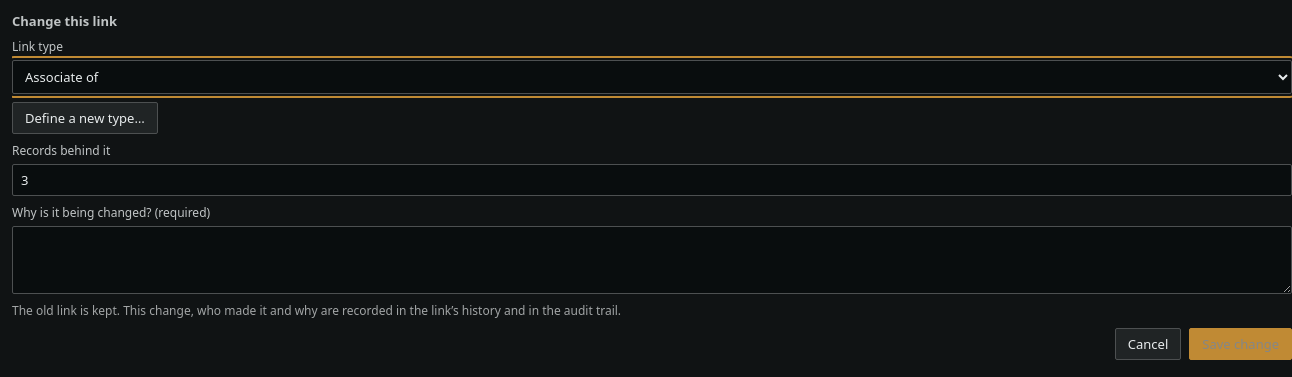
LinkChange › will not save without a reason
Replace the text in the number field labelled "Records behind it" with "7" at (652, 180), box [12,164,1291,196]
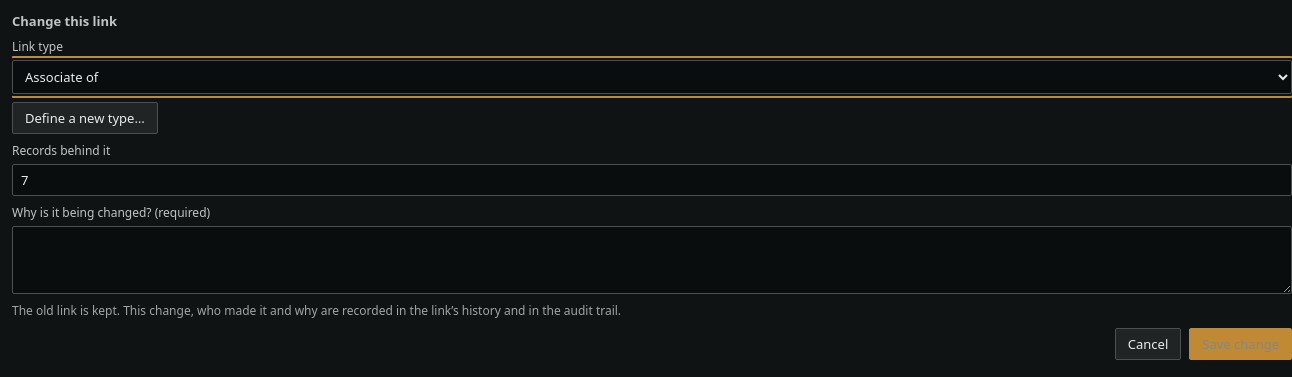
Expected: the button "Save change" is disabled, [1189,328,1291,360]
Type "Seen again" into the text box labelled "Why is it being changed? (required)" at (652, 260), box [12,226,1291,294]
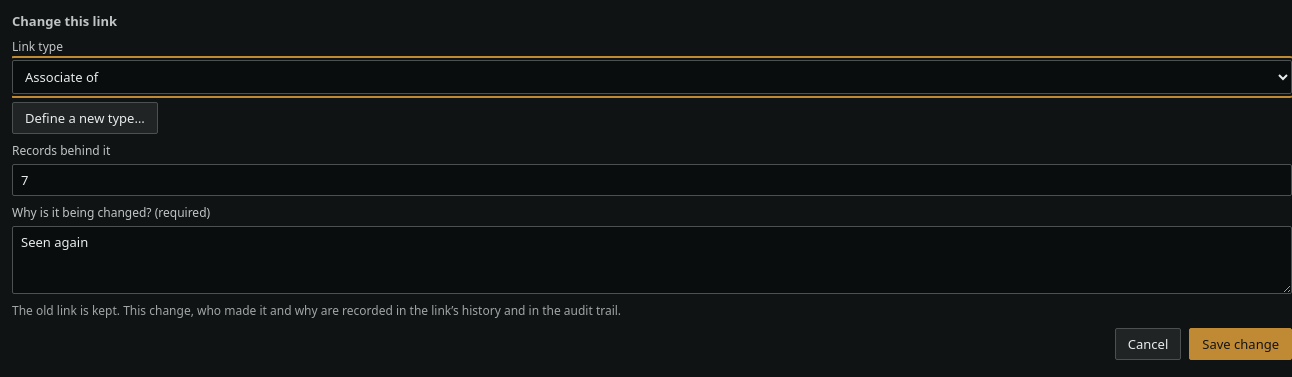
Result: the button "Save change" is enabled at [1189,328,1291,360]
